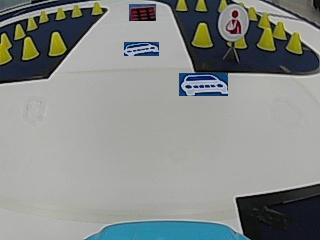cone: (191, 23, 213, 48), (47, 32, 66, 56), (258, 26, 275, 50), (0, 32, 12, 64), (22, 37, 39, 59), (286, 31, 302, 54), (274, 21, 286, 39), (26, 16, 39, 30), (14, 23, 26, 38), (71, 4, 82, 17), (55, 7, 66, 20), (91, 2, 102, 15), (175, 0, 187, 11), (195, 1, 207, 11), (39, 10, 49, 22)
patient: (219, 4, 248, 40)
